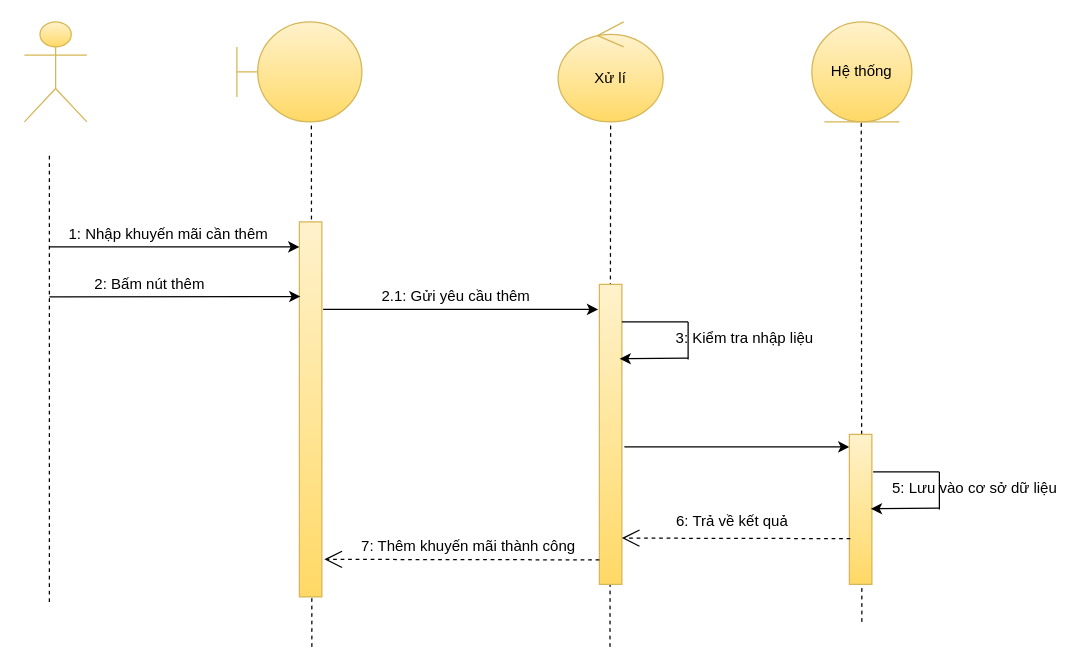
This 1090x670 diagram has some shape labels left out. Here are the shapes that lost their labels. From the top down, the centre of each, then its label:
At (x=55, y=71): "Nhân viên".
At (x=299, y=71): "Form sửa".
